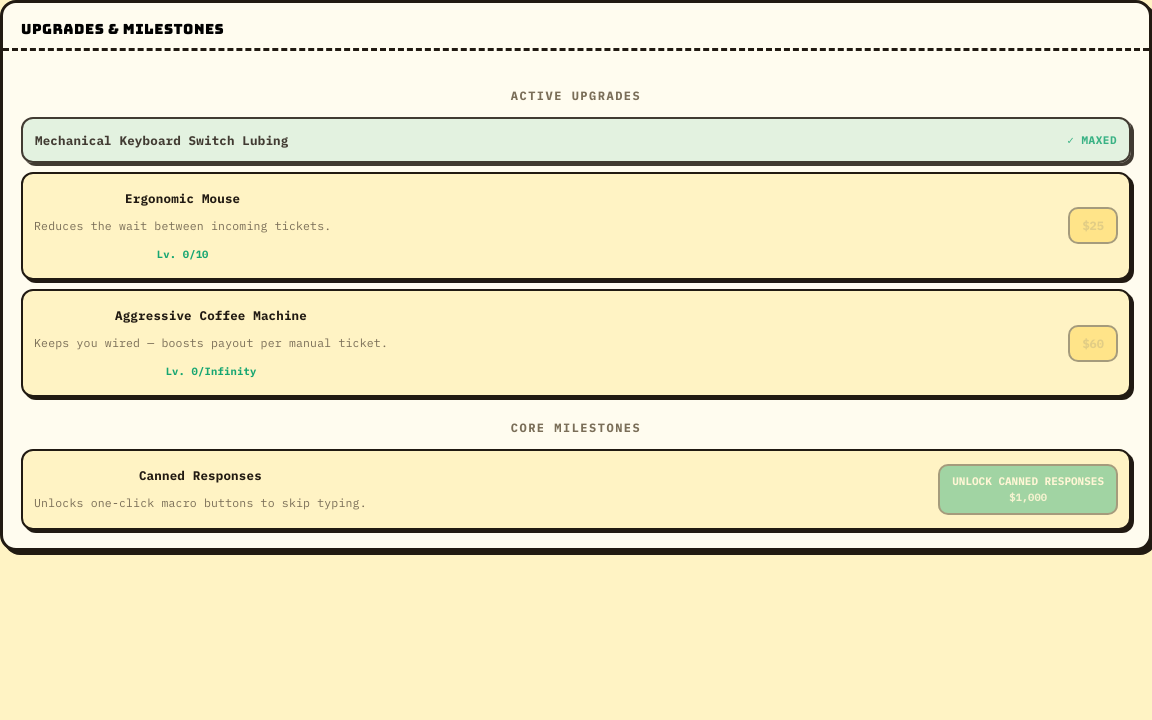
Test: maxed upgrades › collapse again on a second click
Click the text "Mechanical Keyboard Switch Lubing" at (162, 140), box [35, 127, 288, 153]
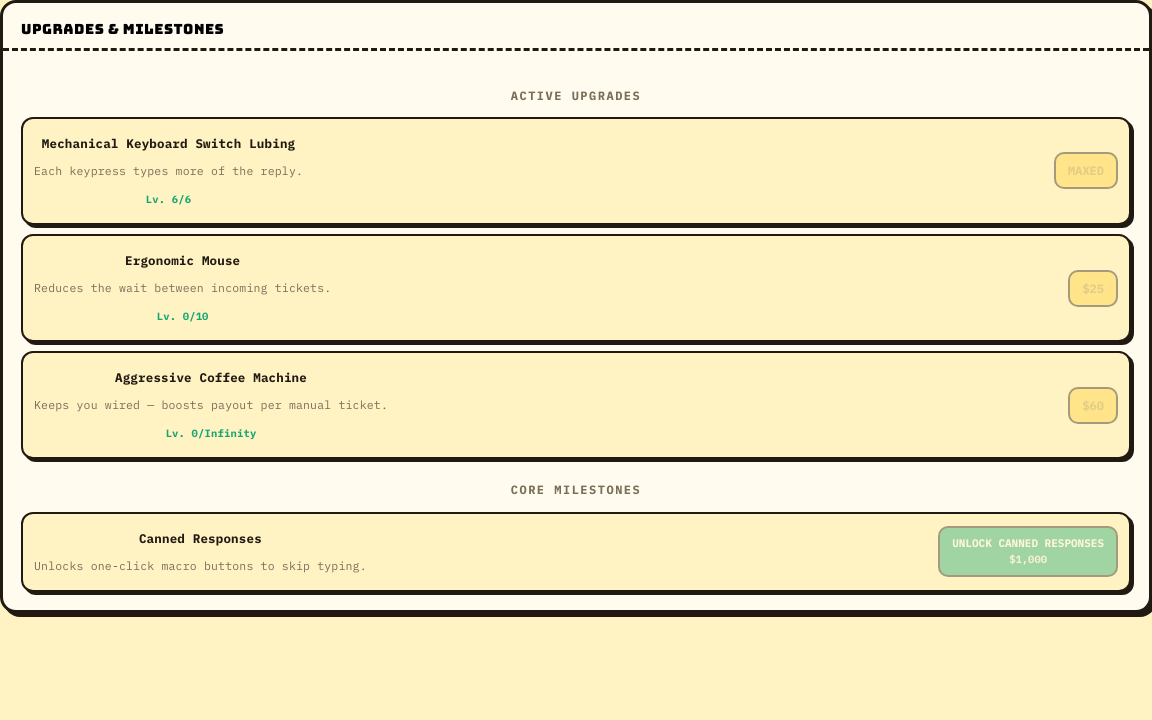
Click the text "Mechanical Keyboard Switch Lubing" at (168, 143), box [34, 130, 303, 156]
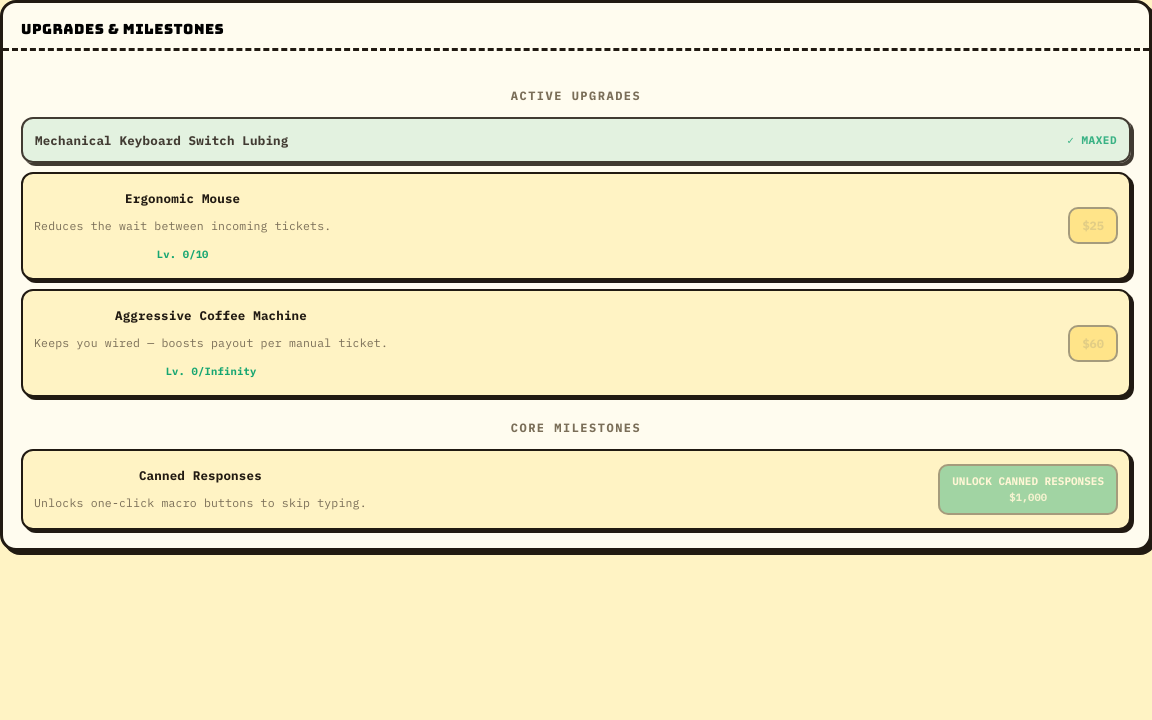
Now the text "Each keypress types more of the reply." is gone
Now the text "✓ MAXED" is shown, box [1067, 133, 1117, 147]
